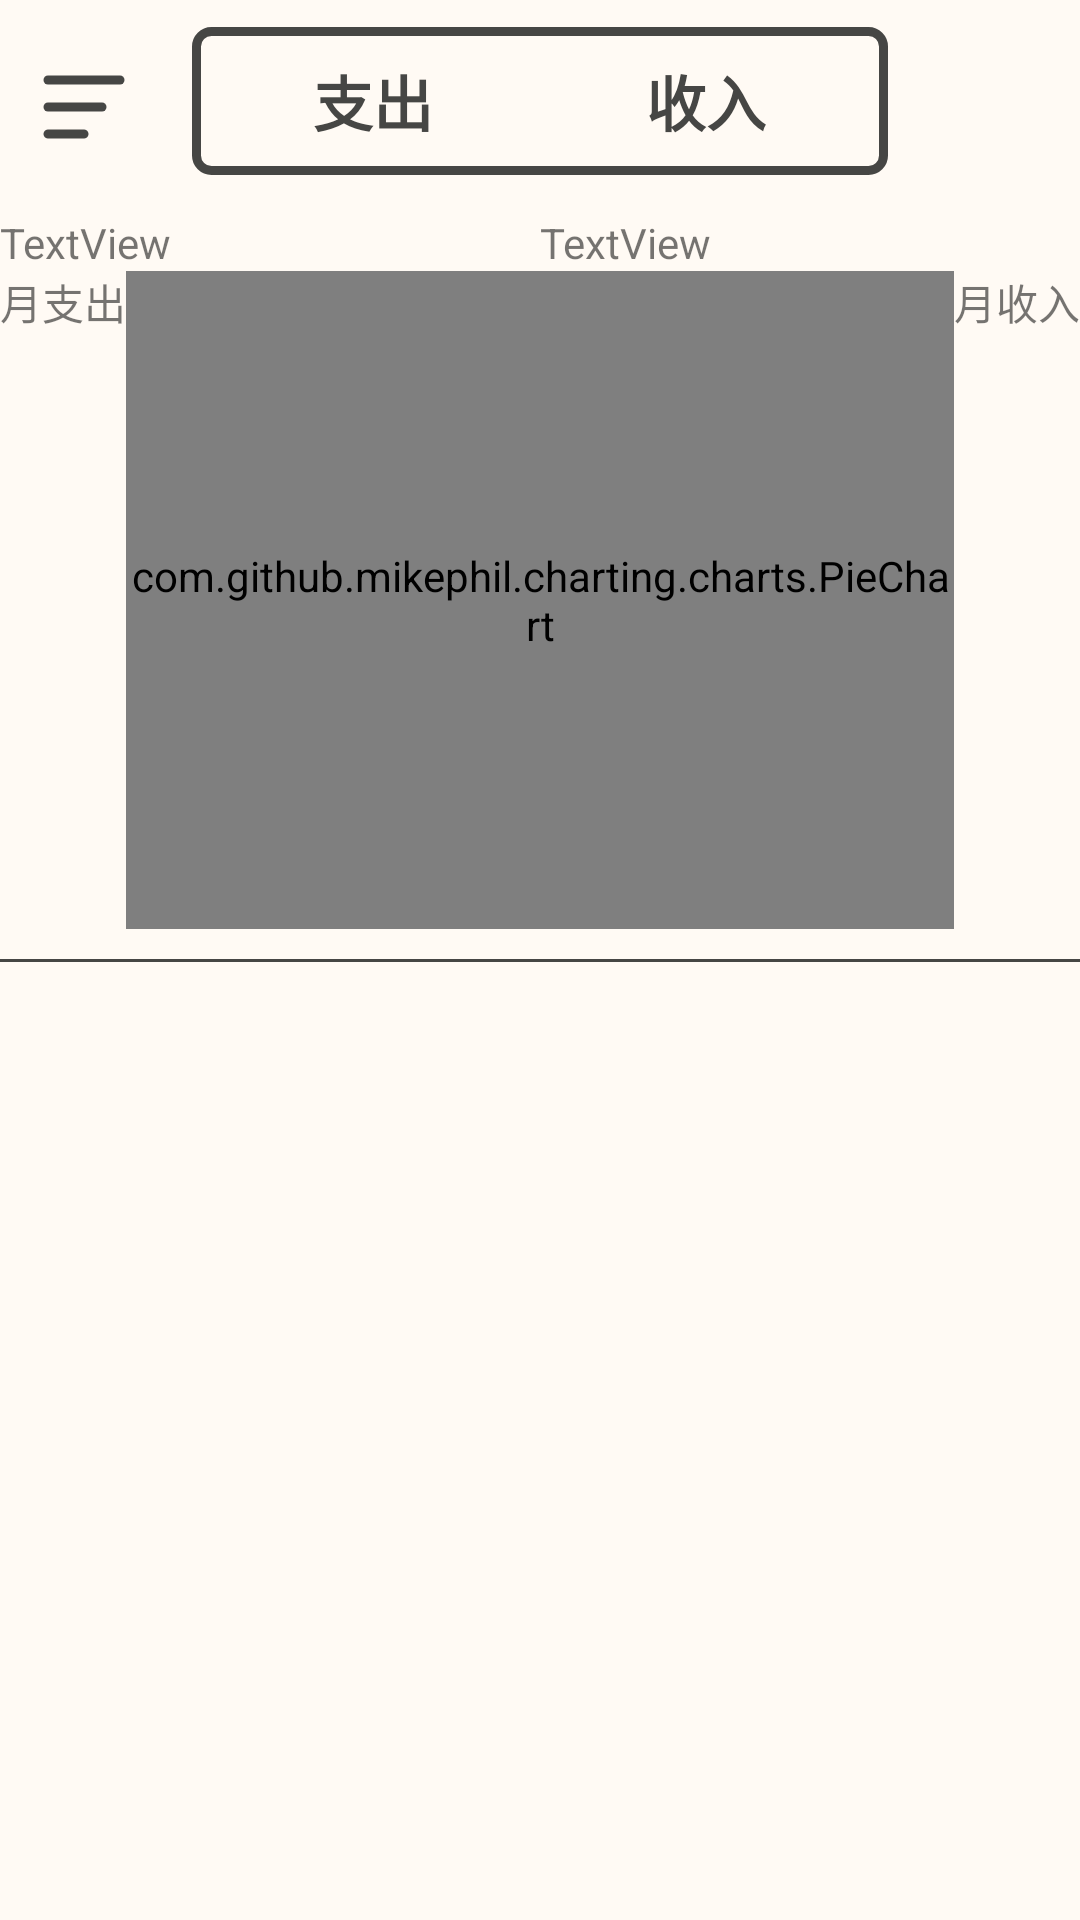

Icons on this 1080×1920 Android screen, each with the point to tap as (x=x, y=y):
filter: (x=84, y=107)
